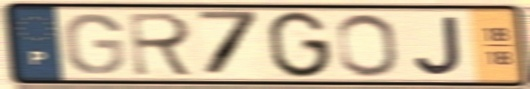7: (195, 8, 263, 80)
G: (266, 9, 333, 81), (62, 11, 128, 77)
J: (412, 14, 465, 77)
O: (334, 12, 403, 79)
R: (126, 10, 198, 79)
